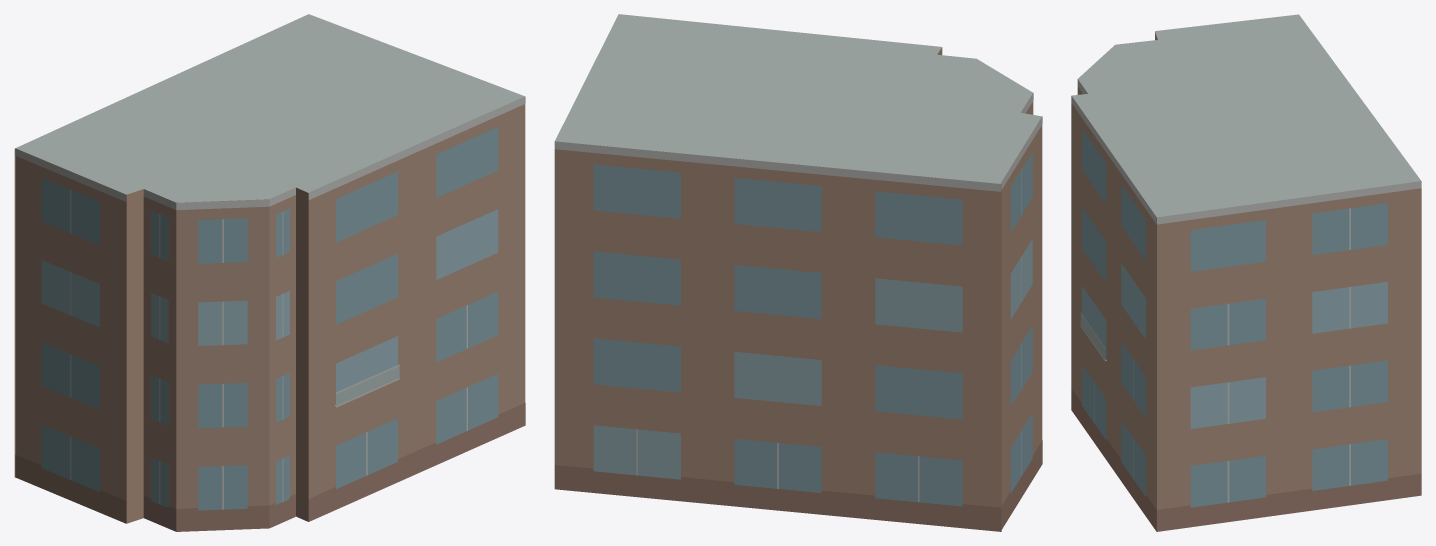
The model's file is survey-upis-32937468.glb.
3 renders of one model, left to right at view 1: azimuth 30°, elevation 25°; view 2: azimuth 150°, elevation 25°; view 3: azimuth 270°, elevation 25°, orthographic. The views are drawn at different scales.
Parts seen in each view (by area): view 1: survey-upis-32937468.tmp; view 2: survey-upis-32937468.tmp; view 3: survey-upis-32937468.tmp.
Part boxes in pixels (x1,y1,x2,y2): survey-upis-32937468.tmp: [14, 14, 525, 531]; survey-upis-32937468.tmp: [554, 14, 1042, 531]; survey-upis-32937468.tmp: [1071, 14, 1421, 531].
Size of the model in its own units: 15 by 10.8 by 10.91.
